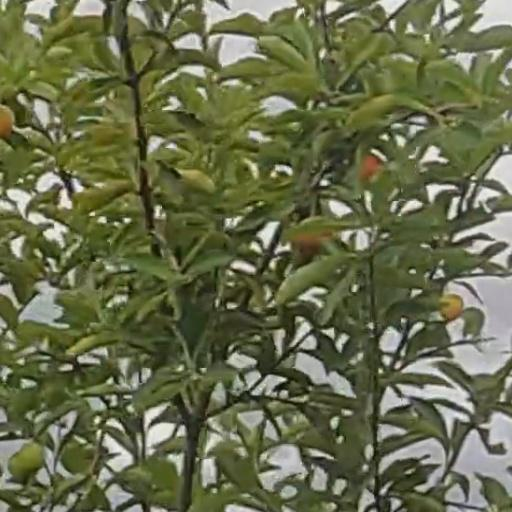acerola_vermelha: (361, 154, 379, 182), (1, 104, 13, 139)
